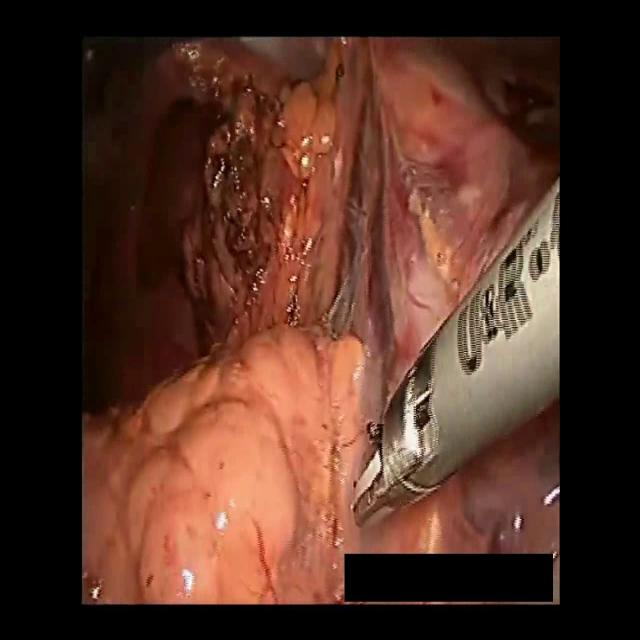surgical-area: (81, 36, 562, 608)
surgical-tool: (352, 178, 560, 527)
